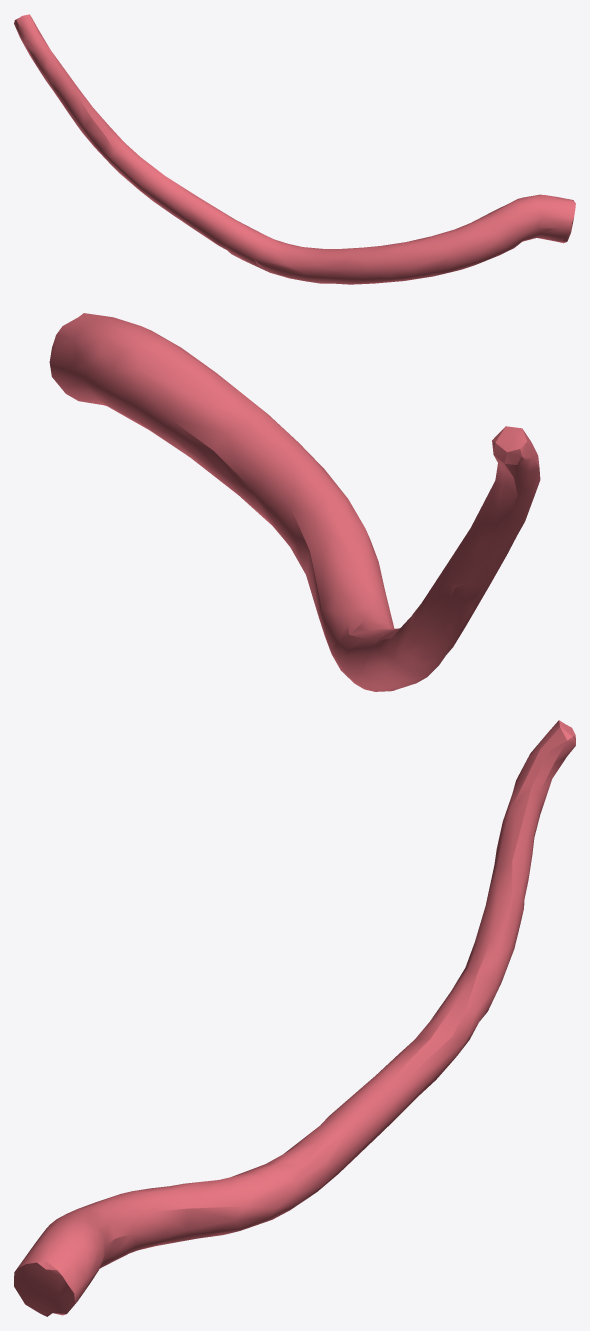
The model's file is fma3829_mm445.glb.
3 views of the same model, one above another, from view 1: azimuth 30°, elevation 25°; view 2: azimuth 150°, elevation 25°; view 3: azimuth 270°, elevation 25° (orthographic). The views are drawn at different scales.
Visible parts, largest first — view 1: FMA3829_MM445; view 2: FMA3829_MM445; view 3: FMA3829_MM445.
Part boxes in pixels (x1,y1,x2,y2): FMA3829_MM445: [14, 14, 575, 284]; FMA3829_MM445: [49, 313, 540, 691]; FMA3829_MM445: [14, 720, 575, 1316].
Bounding box in the file's own units: 0.0193 × 0.0109 × 0.0151.
